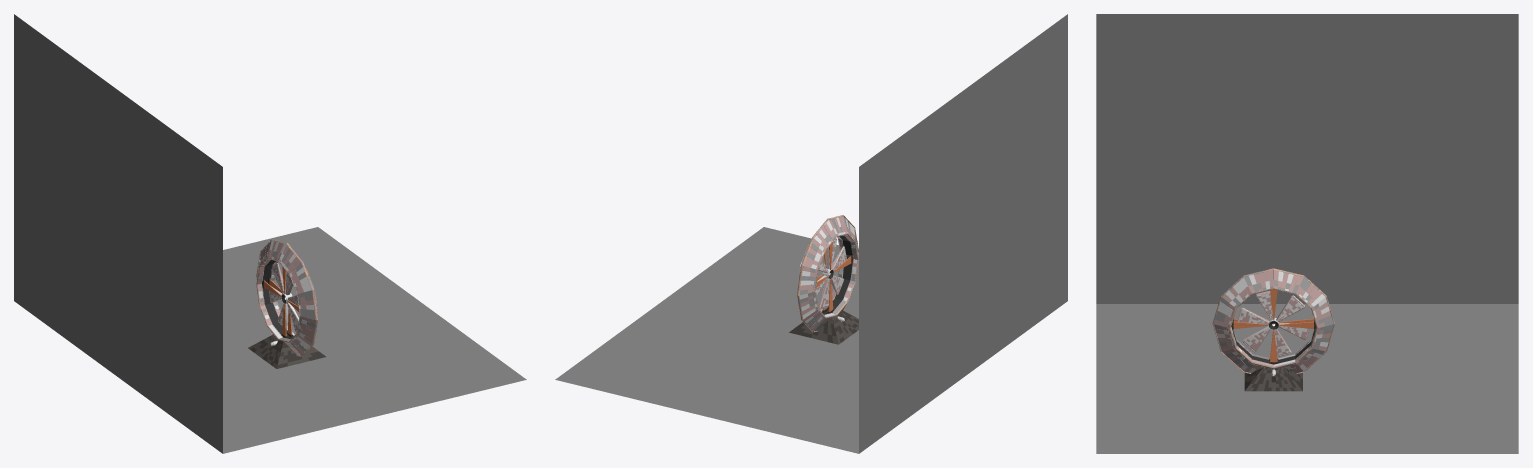
The model's file is WindMonument_old_240606.fbx.
3 renders of one model, left to right at view 1: azimuth 30°, elevation 25°; view 2: azimuth 150°, elevation 25°; view 3: azimuth 270°, elevation 25°, orthographic.
Parts seen in each view (by area): view 1: Plane, WindMonument_Frame, WindMonument_Base, WindMonument_Wheels, WindMonument_Socket; view 2: Plane, WindMonument_Frame, WindMonument_Base, WindMonument_Wheels, WindMonument_Socket; view 3: Plane, WindMonument_Frame, WindMonument_Wheels, WindMonument_Base, WindMonument_Socket.
Boxes of the visible parts, bbox=[...] form: Plane: bbox=[14, 14, 526, 453]; WindMonument_Frame: bbox=[256, 239, 318, 356]; WindMonument_Base: bbox=[248, 334, 325, 368]; WindMonument_Wheels: bbox=[269, 263, 299, 333]; WindMonument_Socket: bbox=[262, 267, 299, 337]; Plane: bbox=[555, 14, 1067, 453]; WindMonument_Frame: bbox=[797, 215, 858, 332]; WindMonument_Base: bbox=[789, 310, 858, 344]; WindMonument_Wheels: bbox=[815, 238, 846, 309]; WindMonument_Socket: bbox=[816, 242, 853, 313]; Plane: bbox=[1096, 14, 1518, 453]; WindMonument_Frame: bbox=[1212, 268, 1334, 373]; WindMonument_Wheels: bbox=[1237, 291, 1309, 356]; WindMonument_Base: bbox=[1244, 367, 1302, 391]; WindMonument_Socket: bbox=[1231, 289, 1316, 364].
Bounding box in the file's own units: 1149 × 1038 × 1367.
